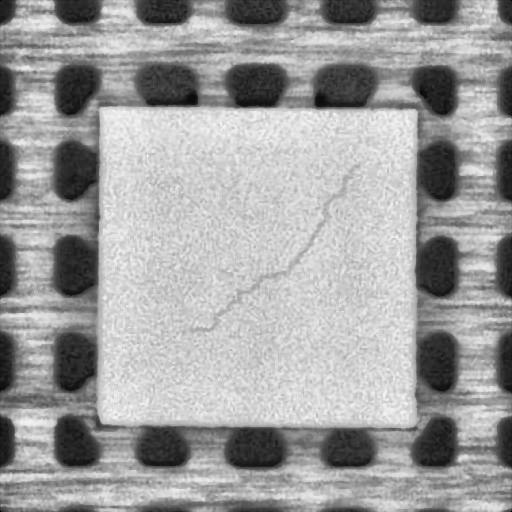DIE_CRACK: (194, 160, 364, 333)
